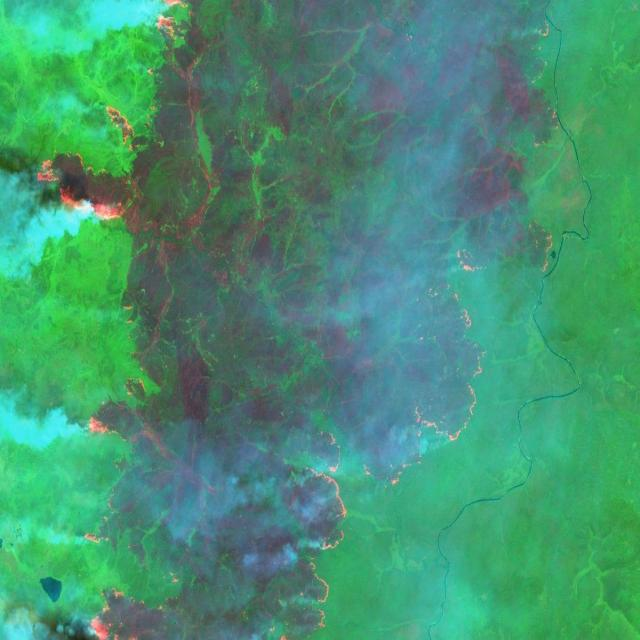fire: (36, 0, 194, 640), (385, 244, 489, 487), (272, 422, 349, 640)
